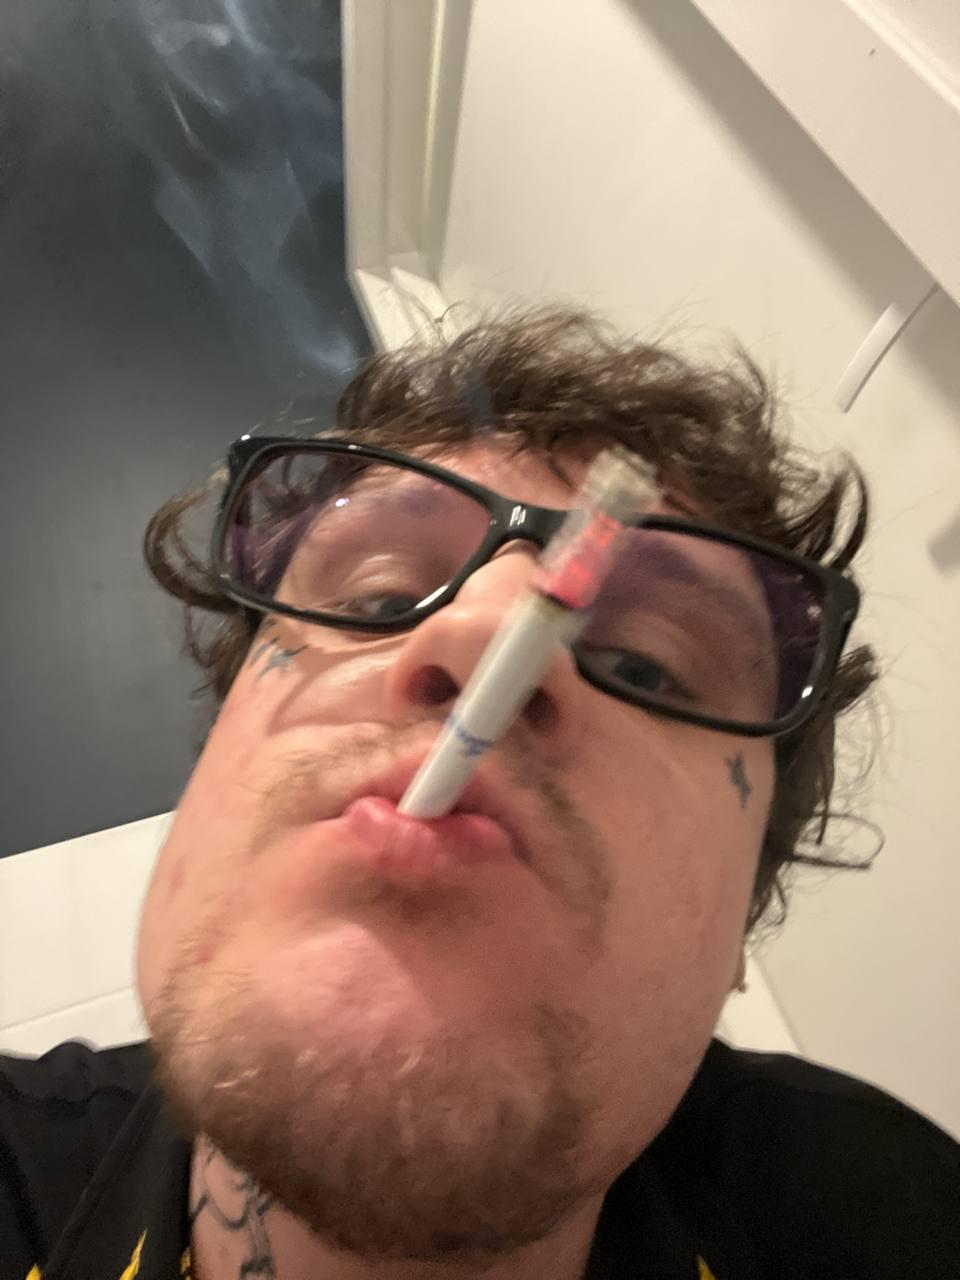cigarette: (398, 472, 653, 819)
